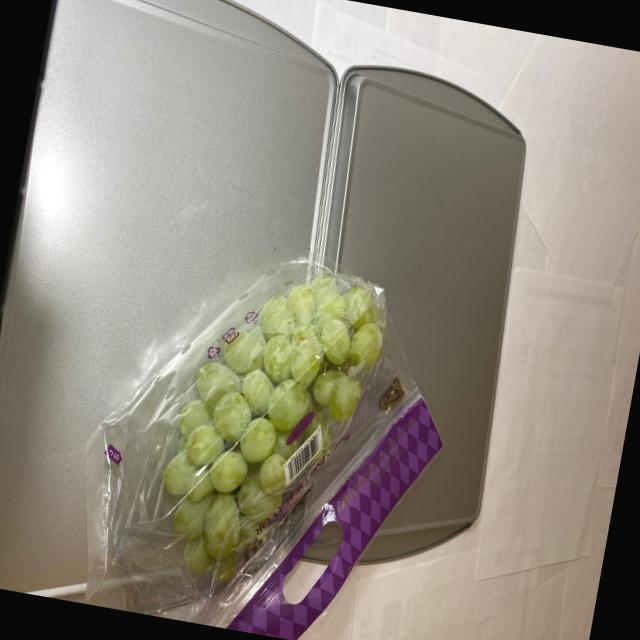grapes: (136, 238, 409, 614)
